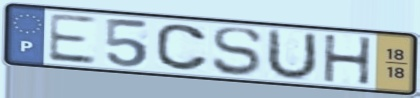5: (103, 17, 152, 70)
C: (153, 22, 212, 73)
E: (45, 11, 100, 66)
H: (321, 33, 375, 87)
S: (211, 26, 266, 78)
U: (262, 27, 320, 82)
